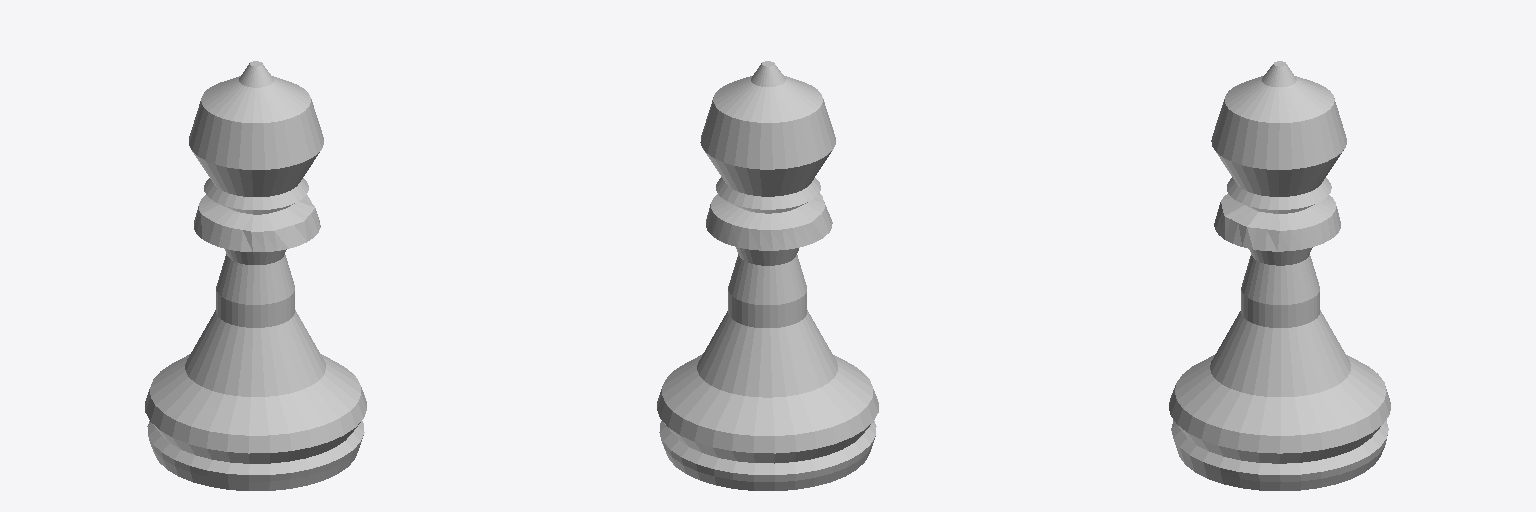
Rendered from pawn.obj.
3 renders of one model, left to right at view 1: azimuth 30°, elevation 25°; view 2: azimuth 150°, elevation 25°; view 3: azimuth 270°, elevation 25°, orthographic.
Visible parts, largest first — view 1: pawn; view 2: pawn; view 3: pawn.
Part boxes in pixels (x1,y1,x2,y2): pawn: (145,61,366,490); pawn: (657,61,878,490); pawn: (1169,61,1390,490).
Size of the model in its own units: 1.48 by 2.81 by 1.48.